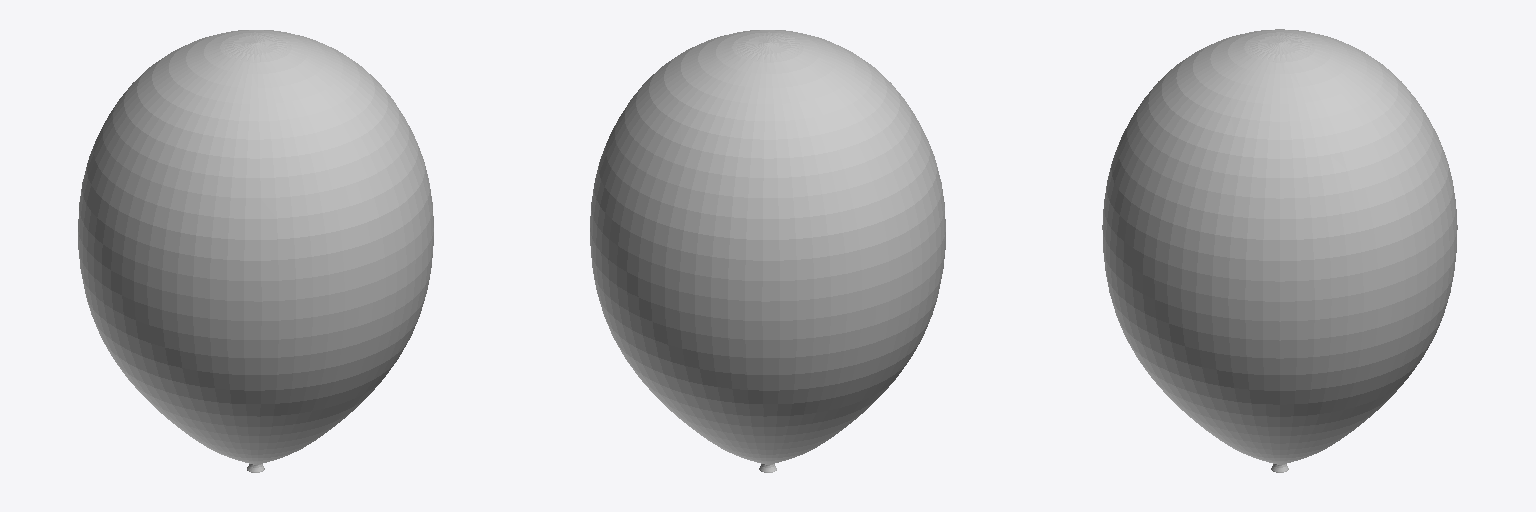
File: Globo12.obj
3 renders of one model, left to right at view 1: azimuth 30°, elevation 25°; view 2: azimuth 150°, elevation 25°; view 3: azimuth 270°, elevation 25°, orthographic.
Parts seen in each view (by area): view 1: Sphere; view 2: Sphere; view 3: Sphere.
Boxes of the visible parts, x1=… form: Sphere: x1=78, y1=30, x2=433, y2=472; Sphere: x1=590, y1=30, x2=945, y2=472; Sphere: x1=1102, y1=29, x2=1457, y2=472.
Bounding box in the file's own units: 0.5211 × 0.688 × 0.519.